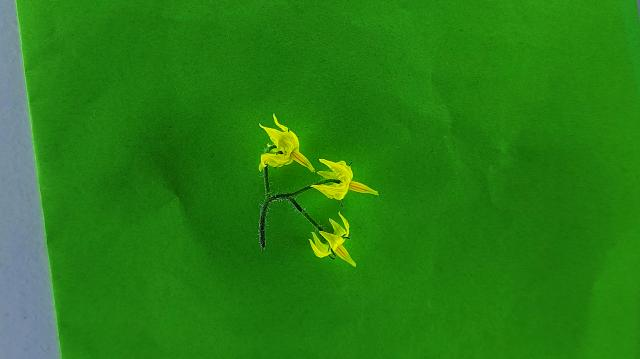Anthesis: (257, 113, 316, 176), (309, 156, 380, 203), (308, 212, 357, 268)
